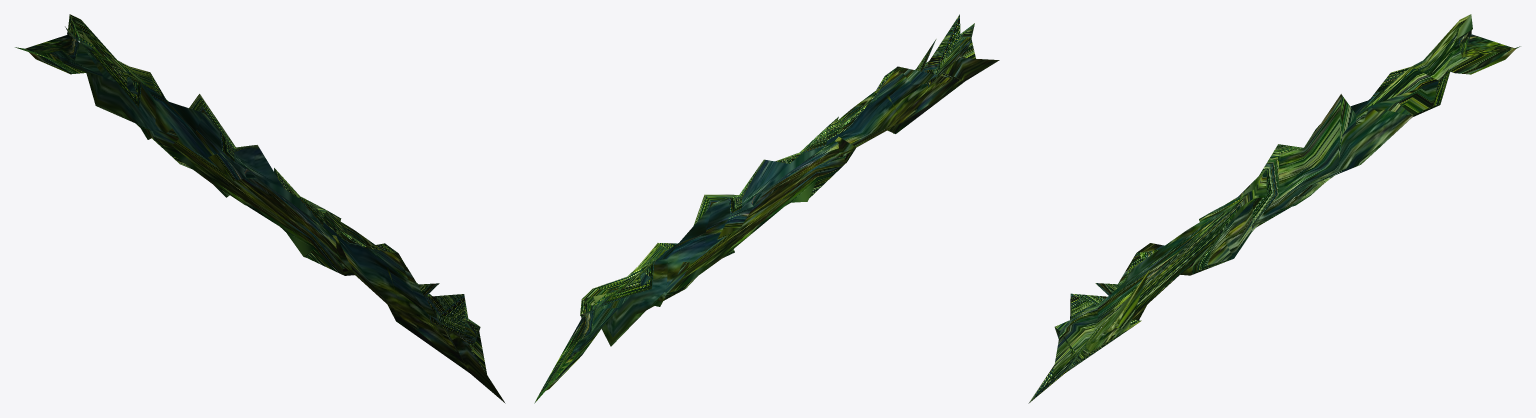
3 views of the same model, side by side, from view 1: azimuth 30°, elevation 25°; view 2: azimuth 150°, elevation 25°; view 3: azimuth 330°, elevation 25° (orthographic). The views are drawn at different scales.
Visible parts, largest first — view 1: algae_cube_Cube; view 2: algae_cube_Cube; view 3: algae_cube_Cube.
Boxes of the visible parts, left/top/right/bottom form: algae_cube_Cube: left=15, top=14, right=505, bottom=403; algae_cube_Cube: left=534, top=14, right=999, bottom=403; algae_cube_Cube: left=1028, top=14, right=1520, bottom=403.
Size of the model in its own units: 0.00993 by 0.2711 by 2.79.
